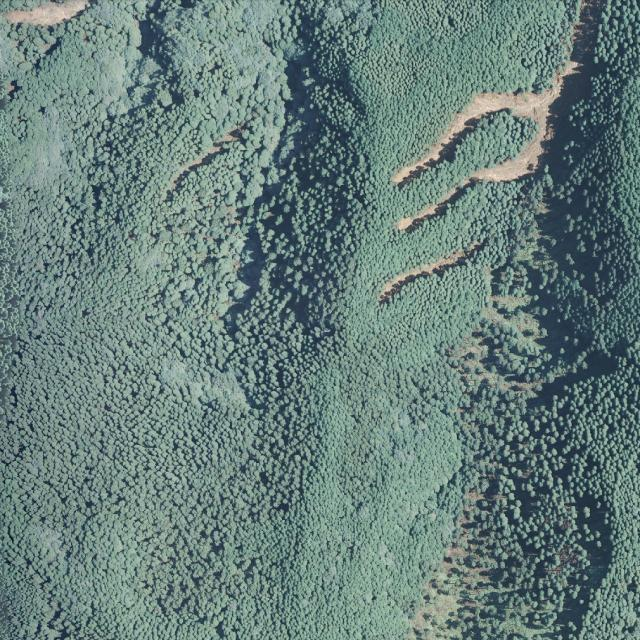landslide: (392, 3, 596, 231), (380, 242, 485, 302)
